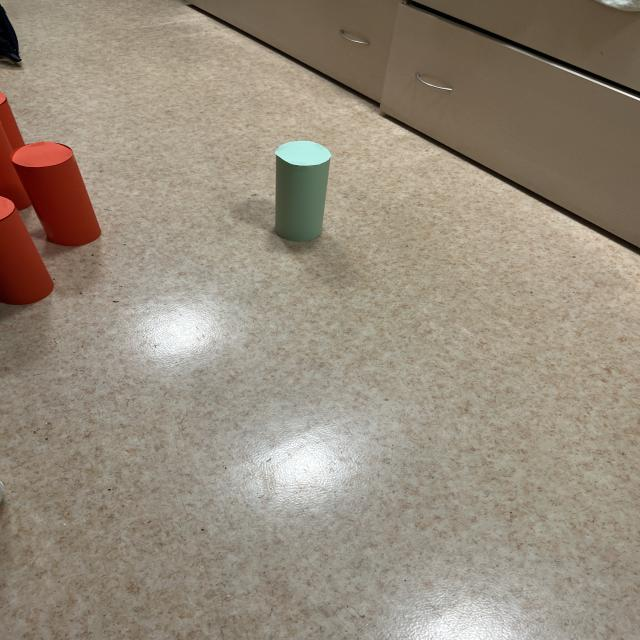meta: (275, 141, 331, 242)
